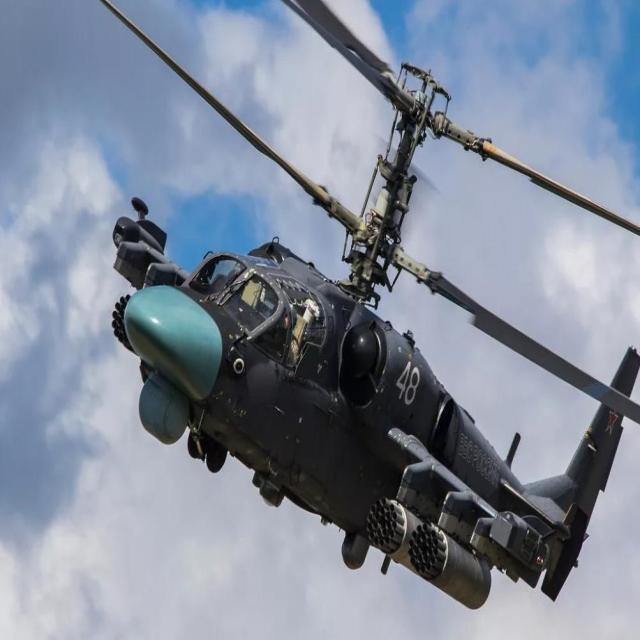MIL_HELO: (91, 0, 640, 614)
